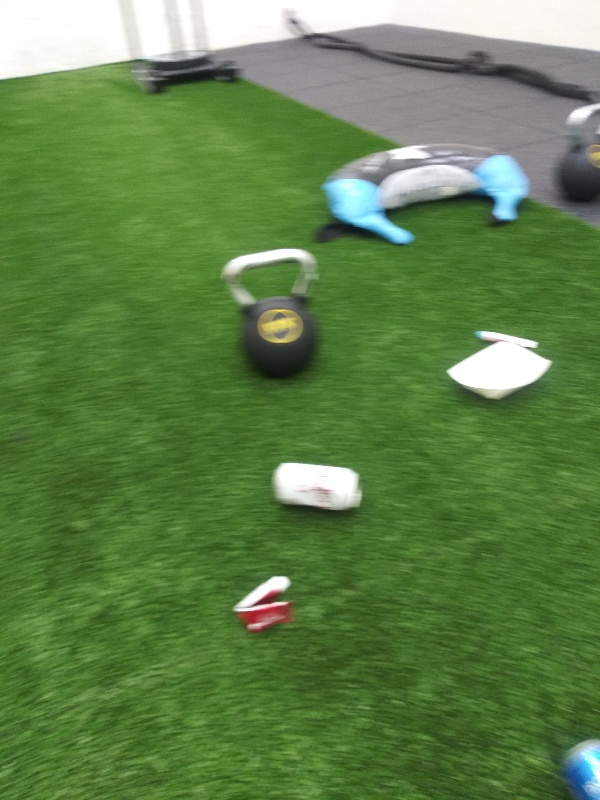can: (267, 456, 371, 517), (553, 732, 600, 798)
plate: (443, 335, 556, 406)
